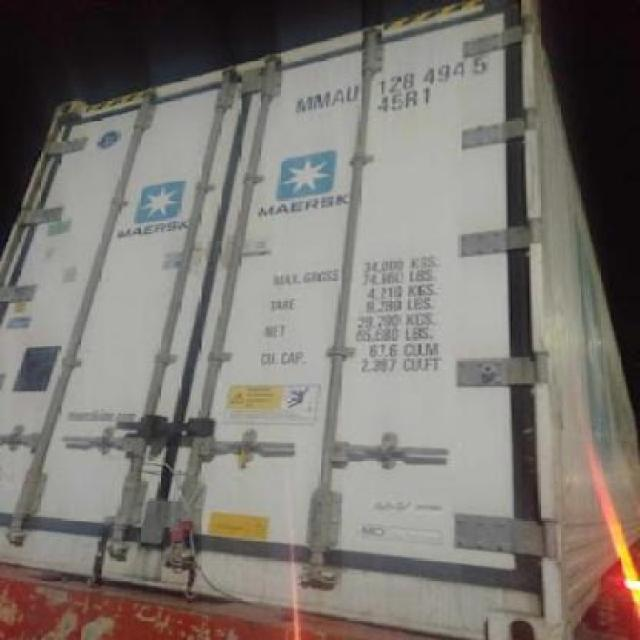ISO: (379, 84, 438, 116)
container_number: (292, 55, 492, 113)
